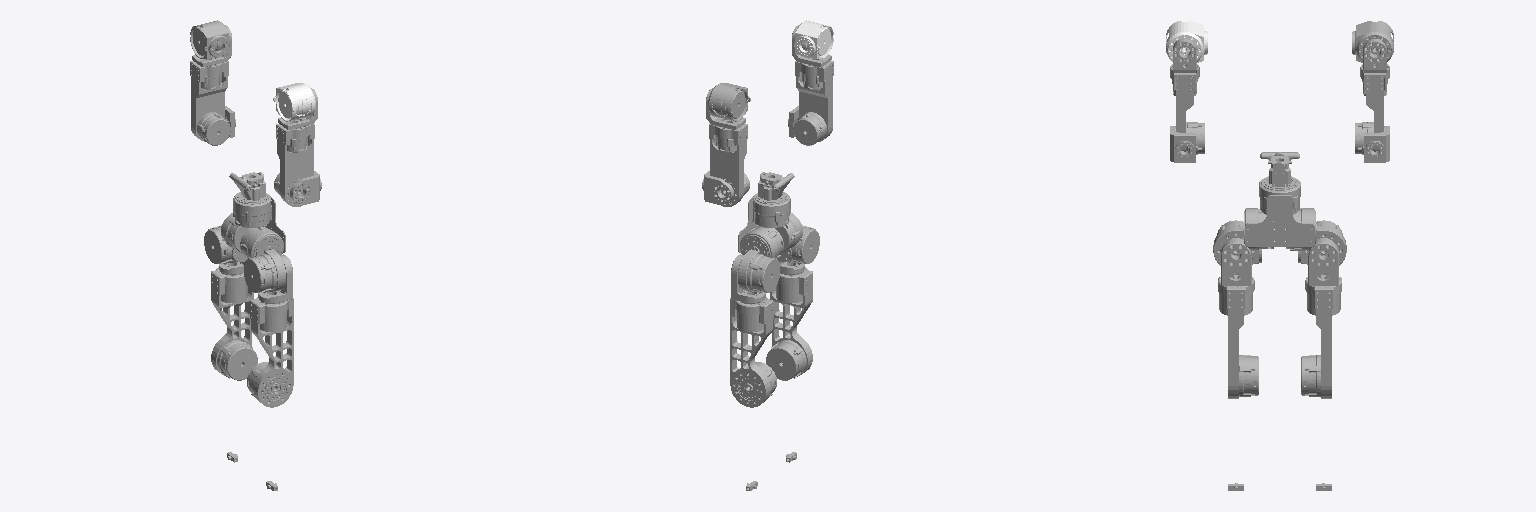
--- Render facts (derived) ---
3 views of the same robot in one strip: view 1: azimuth 30°, elevation 25°; view 2: azimuth 150°, elevation 25°; view 3: azimuth 270°, elevation 25° (orthographic).
Robot: elf2 — 34 links, 33 joints (29 revolute, 2 prismatic, 2 fixed); root link base_link; default pose: all joints at 0.
Visible links, largest first — view 1: r_hip_z_link, l_hip_z_link, waist_z_link, l_shld_z_link, r_shld_z_link, r_hip_y_link, r_shld_y_link, l_shld_y_link, l_hip_y_link, r_elb_y_link, r_hip_x_link, waist_x_link; view 2: l_hip_z_link, r_hip_z_link, waist_z_link, r_shld_z_link, l_shld_z_link, l_hip_y_link, l_shld_y_link, r_shld_y_link, r_hip_y_link, l_elb_y_link, l_hip_x_link, waist_x_link; view 3: waist_z_link, l_hip_z_link, r_hip_z_link, l_shld_z_link, r_shld_z_link, l_hip_x_link, r_hip_x_link, r_shld_y_link, l_shld_y_link, r_hip_y_link, l_hip_y_link, l_elb_y_link (+4 smaller).
Boxes of the visible links, left/top/right/bottom form: r_hip_z_link: left=247, top=297, right=293, bottom=407; l_hip_z_link: left=211, top=267, right=257, bottom=380; waist_z_link: left=221, top=192, right=285, bottom=257; l_shld_z_link: left=190, top=61, right=230, bottom=145; r_shld_z_link: left=274, top=124, right=314, bottom=206; r_hip_y_link: left=244, top=249, right=285, bottom=292; r_shld_y_link: left=273, top=83, right=315, bottom=121; l_shld_y_link: left=190, top=20, right=229, bottom=59; l_hip_y_link: left=204, top=225, right=247, bottom=263; r_elb_y_link: left=290, top=171, right=321, bottom=204; r_hip_x_link: left=258, top=254, right=292, bottom=303; waist_x_link: left=229, top=172, right=265, bottom=200; l_hip_z_link: left=730, top=297, right=776, bottom=407; r_hip_z_link: left=766, top=267, right=812, bottom=380; waist_z_link: left=738, top=192, right=802, bottom=258; r_shld_z_link: left=793, top=61, right=833, bottom=145; l_shld_z_link: left=709, top=124, right=749, bottom=206; l_hip_y_link: left=738, top=249, right=779, bottom=292; l_shld_y_link: left=708, top=83, right=750, bottom=121; r_shld_y_link: left=794, top=20, right=833, bottom=59; r_hip_y_link: left=777, top=225, right=819, bottom=263; l_elb_y_link: left=702, top=171, right=733, bottom=204; l_hip_x_link: left=731, top=254, right=765, bottom=304; waist_x_link: left=758, top=172, right=794, bottom=200; waist_z_link: left=1243, top=176, right=1316, bottom=250; l_hip_z_link: left=1301, top=277, right=1341, bottom=398; r_hip_z_link: left=1218, top=277, right=1258, bottom=398; l_shld_z_link: left=1355, top=64, right=1389, bottom=154; r_shld_z_link: left=1170, top=64, right=1204, bottom=154; l_hip_x_link: left=1308, top=238, right=1338, bottom=285; r_hip_x_link: left=1221, top=238, right=1251, bottom=285; r_shld_y_link: left=1166, top=21, right=1207, bottom=64; l_shld_y_link: left=1352, top=21, right=1393, bottom=64; r_hip_y_link: left=1213, top=220, right=1261, bottom=265; l_hip_y_link: left=1298, top=220, right=1346, bottom=265; l_elb_y_link: left=1364, top=126, right=1389, bottom=162.
Size in the robot's own frame: 0.1249 by 0.5201 by 1.17 metres.
Meshes: 28 distinct files referenced, 19 mesh visuals loaded (19 binary STL); not drawn: 13 (reference not matched to a file when rendering).

URDF robot description (elf2):
<?xml version="1.0" encoding="utf-8"?>
<robot
  name="elf2">
  <link
    name="base_link">
    <inertial>
      <origin
        xyz="-0.002719 0.001928 0.003917"
        rpy="0 0 0" />
      <mass
        value="8.948443" />
      <inertia
        ixx="0.18746"
        ixy="-0.000182"
        ixz="-0.001384"
        iyy="0.142272"
        iyz="0.000105"
        izz="0.069523" />
    </inertial>
    <visual>
      <origin
        xyz="0 0 0"
        rpy="0 0 0" />
      <geometry>
        <mesh
          filename="../meshes/base_link.STL" />
      </geometry>
      <material
        name="">
        <color
          rgba="0.75294 0.75294 0.75294 1" />
      </material>
    </visual>
    <collision>
      <origin
        xyz="0 0 0"
        rpy="0 0 0" />
      <geometry>
        <mesh
          filename="../meshes/base_link.STL" />
      </geometry>
    </collision>
  </link>
  <link
    name="waist_y_link">
    <inertial>
      <origin
        xyz="0.0 0.0 0.0"
        rpy="0 0 0" />
      <mass
        value="0.05316739" />
      <inertia
        ixx="9.7e-06"
        ixy="-0.0"
        ixz="-0.0"
        iyy="9.7e-06"
        iyz="-0.0"
        izz="1.819e-05" />
    </inertial>
    <visual>
      <origin
        xyz="0 0 0"
        rpy="0 0 0" />
      <geometry>
        <mesh
          filename="../meshes/waist_y_link.STL" />
      </geometry>
      <material
        name="">
        <color
          rgba="0.752941176470588 0.752941176470588 0.752941176470588 1" />
      </material>
    </visual>
    <!-- <collision>
      <origin
        xyz="0 0 0"
        rpy="0 0 0" />
      <geometry>
        <mesh
          filename="../meshes/waist_y_link.STL" />
      </geometry>
    </collision> -->
  </link>
  <joint
    name="waist_y_joint"
    type="revolute">
    <origin
      xyz="0 0 -0.2087"
      rpy="0 0 0" />
    <parent
      link="base_link" />
    <child
      link="waist_y_link" />
    <axis
      xyz="0 1 0" />
    <limit
      lower="-0.523"
      upper="0.523"
      effort="50"
      velocity="20" />
  </joint>
  <link
    name="waist_x_link">
    <inertial>
      <origin
        xyz="-0.00448944 0.0 -0.02389195"
        rpy="0 0 0" />
      <mass
        value="0.21792014" />
      <inertia
        ixx="9.089e-05"
        ixy="-0.0"
        ixz="3.456e-05"
        iyy="0.0001491"
        iyz="-0.0"
        izz="0.00013001" />
    </inertial>
    <visual>
      <origin
        xyz="0 0 0"
        rpy="0 0 0" />
      <geometry>
        <mesh
          filename="../meshes/waist_x_link.STL" />
      </geometry>
      <material
        name="">
        <color
          rgba="0.752941176470588 0.752941176470588 0.752941176470588 1" />
      </material>
    </visual>
    <!-- <collision>
      <origin
        xyz="0 0 0"
        rpy="0 0 0" />
      <geometry>
        <mesh
          filename="../meshes/waist_x_link.STL" />
      </geometry>
    </collision> -->
  </link>
  <joint
    name="waist_x_joint"
    type="revolute">
    <origin
      xyz="0 0 0"
      rpy="0 0 0" />
    <parent
      link="waist_y_link" />
    <child
      link="waist_x_link" />
    <axis
      xyz="1 0 0" />
    <limit
      lower="-0.261"
      upper="0.261"
      effort="50"
      velocity="20" />
  </joint>
  <link
    name="waist_z_link">
    <inertial>
      <origin
        xyz="0.00031142 0.00082403 -0.08226891"
        rpy="0 0 0" />
      <mass
        value="3.12645393" />
      <inertia
        ixx="0.0215717"
        ixy="1.17e-06"
        ixz="-1.184e-05"
        iyy="0.00322293"
        iyz="-7.322e-05"
        izz="0.0229471" />
    </inertial>
    <visual>
      <origin
        xyz="0 0 0"
        rpy="0 0 0" />
      <geometry>
        <mesh
          filename="../meshes/waist_z_link.STL" />
      </geometry>
      <material
        name="">
        <color
          rgba="0.752941176470588 0.752941176470588 0.752941176470588 1" />
      </material>
    </visual>
    <collision>
      <origin
        xyz="0 0 0"
        rpy="0 0 0" />
      <geometry>
        <mesh
          filename="../meshes/waist_z_link.STL" />
      </geometry>
    </collision>
  </link>
  <joint
    name="waist_z_joint"
    type="revolute">
    <origin
      xyz="0 0 0"
      rpy="0 0 0" />
    <parent
      link="waist_x_link" />
    <child
      link="waist_z_link" />
    <axis
      xyz="0 0 1" />
    <limit
      lower="-1.57"
      upper="1.57"
      effort="40"
      velocity="20" />
  </joint>
  <link
    name="l_hip_z_link">
    <inertial>
      <origin
        xyz="-0.0951743 -0.00029544 0.01157699"
        rpy="0 0 0" />
      <mass
        value="1.26002534" />
      <inertia
        ixx="0.00250858"
        ixy="-1.87e-05"
        ixz="-0.00093719"
        iyy="0.00299504"
        iyz="6.14e-06"
        izz="0.00188897" />
    </inertial>
    <visual>
      <origin
        xyz="0 0 0"
        rpy="0 0 0" />
      <geometry>
        <mesh
          filename="../meshes/l_hip_z_link.STL" />
      </geometry>
      <material
        name="">
        <color
          rgba="0.752941176470588 0.752941176470588 0.752941176470588 1" />
      </material>
    </visual>
    <collision>
      <origin
        xyz="0 0 0"
        rpy="0 0 0" />
      <geometry>
        <mesh
          filename="../meshes/l_hip_z_link.STL" />
      </geometry>
    </collision>
  </link>
  <joint
    name="l_hip_z_joint"
    type="revolute">
    <origin
      xyz="0 0.1 -0.2175"
      rpy="0 0 0" />
    <parent
      link="waist_z_link" />
    <child
      link="l_hip_z_link" />
    <axis
      xyz="0 0 1" />
    <limit
      lower="-0.785"
      upper="0.785"
      effort="20"
      velocity="20" />
  </joint>
  <link
    name="l_hip_x_link">
    <inertial>
      <origin
        xyz="-0.00349545 -0.05016077 0.00015601"
        rpy="0 0 0" />
      <mass
        value="1.75826055" />
      <inertia
        ixx="0.00145734"
        ixy="0.000276"
        ixz="2.571e-05"
        iyy="0.00183603"
        iyz="-4e-08"
        izz="0.00181117" />
    </inertial>
    <visual>
      <origin
        xyz="0 0 0"
        rpy="0 0 0" />
      <geometry>
        <mesh
          filename="../meshes/l_hip_x_link.STL" />
      </geometry>
      <material
        name="">
        <color
          rgba="0.752941176470588 0.752941176470588 0.752941176470588 1" />
      </material>
    </visual>
    <!-- <collision>
      <origin
        xyz="0 0 0"
        rpy="0 0 0" />
      <geometry>
        <mesh
          filename="../meshes/l_hip_x_link.STL" />
      </geometry>
    </collision> -->
  </link>
  <joint
    name="l_hip_x_joint"
    type="revolute">
    <origin
      xyz="0 0 0"
      rpy="0 0 0" />
    <parent
      link="l_hip_z_link" />
    <child
      link="l_hip_x_link" />
    <axis
      xyz="1 0 0" />
    <limit
      lower="-0.523"
      upper="0.785"
      effort="40"
      velocity="20" />
  </joint>
  <link
    name="l_hip_y_link">
    <inertial>
      <origin
        xyz="0.00237237 0.02408075 -0.04874487"
        rpy="0 0 0" />
      <mass
        value="2.66296335" />
      <inertia
        ixx="0.02678784"
        ixy="0.00016594"
        ixz="0.00075939"
        iyy="0.02619934"
        iyz="-0.00371457"
        izz="0.0045187" />
    </inertial>
    <visual>
      <origin
        xyz="0 0 0"
        rpy="0 0 0" />
      <geometry>
        <mesh
          filename="../meshes/l_hip_y_link.STL" />
      </geometry>
      <material
        name="">
        <color
          rgba="0.752941176470588 0.752941176470588 0.752941176470588 1" />
      </material>
    </visual>
    <!-- <collision>
      <origin
        xyz="0 0 0"
        rpy="0 0 0" />
      <geometry>
        <mesh
          filename="../meshes/l_hip_y_link.STL" />
      </geometry>
    </collision> -->
  </link>
  <joint
    name="l_hip_y_joint"
    type="revolute">
    <origin
      xyz="0 0 0"
      rpy="0 0 0" />
    <parent
      link="l_hip_x_link" />
    <child
      link="l_hip_y_link" />
    <axis
      xyz="0 1 0" />
    <limit
      lower="-2"
      upper="1"
      effort="100"
      velocity="20" />
  </joint>
  <link
    name="l_knee_y_link">
    <inertial>
      <origin
        xyz="0.00711393 -0.00031499 -0.10977806"
        rpy="0 0 0" />
      <mass
        value="1.63072153" />
      <inertia
        ixx="0.01042782"
        ixy="1.62e-06"
        ixz="-0.00054999"
        iyy="0.01018545"
        iyz="-0.00015956"
        izz="0.00140744" />
    </inertial>
    <visual>
      <origin
        xyz="0 0 0"
        rpy="0 0 0" />
      <geometry>
        <mesh
          filename="../meshes/l_knee_y_link.STL" />
      </geometry>
      <material
        name="">
        <color
          rgba="0.752941176470588 0.752941176470588 0.752941176470588 1" />
      </material>
    </visual>
    <collision>
      <origin
        xyz="0 0 0"
        rpy="0 0 0" />
      <geometry>
        <mesh
          filename="../meshes/l_knee_y_link.STL" />
      </geometry>
    </collision>
  </link>
  <joint
    name="l_knee_y_joint"
    type="revolute">
    <origin
      xyz="0 0 -0.3"
      rpy="0 0 0" />
    <parent
      link="l_hip_y_link" />
    <child
      link="l_knee_y_link" />
    <axis
      xyz="0 1 0" />
    <limit
      lower="0"
      upper="2.355"
      effort="120"
      velocity="20" />
  </joint>
  <link
    name="l_ankle_y_link">
    <inertial>
      <origin
        xyz="0.0 0.0 -0.00046563"
        rpy="0 0 0" />
      <mass
        value="0.01206963" />
      <inertia
        ixx="2.89e-06"
        ixy="-0.0"
        ixz="-0.0"
        iyy="3.4e-07"
        iyz="-0.0"
        izz="3.01e-06" />
    </inertial>
    <visual>
      <origin
        xyz="0 0 0"
        rpy="0 0 0" />
      <geometry>
        <mesh
          filename="../meshes/l_ankle_y_link.STL" />
      </geometry>
      <material
        name="">
        <color
          rgba="0.752941176470588 0.752941176470588 0.752941176470588 1" />
      </material>
    </visual>
    <!-- <collision>
      <origin
        xyz="0 0 0"
        rpy="0 0 0" />
      <geometry>
        <mesh
          filename="../meshes/l_ankle_y_link.STL" />
      </geometry>
    </collision> -->
  </link>
  <joint
    name="l_ankle_y_joint"
    type="revolute">
    <origin
      xyz="0 0 -0.3"
      rpy="0 0 0" />
    <parent
      link="l_knee_y_link" />
    <child
      link="l_ankle_y_link" />
    <axis
      xyz="0 1 0" />
    <limit
      lower="-2"
      upper="2"
      effort="50"
      velocity="20" />
  </joint>
  <link
    name="l_ankle_x_link">
    <inertial>
      <origin
        xyz="-0.00088171 0.0 -0.02245193"
        rpy="0 0 0" />
      <mass
        value="0.27064154" />
      <inertia
        ixx="0.00014549"
        ixy="-0.0"
        ixz="5.53e-06"
        iyy="0.00071745"
        iyz="-0.0"
        izz="0.00081666" />
    </inertial>
    <visual>
      <origin
        xyz="0 0 -0.03"
        rpy="0 0 0" />
      <geometry>
        <mesh
          filename="../meshes/l_hum_foot.STL" />
      </geometry>
      <material
        name="">
        <color
          rgba="0.752941176470588 0.752941176470588 0.752941176470588 1" />
      </material>
    </visual>
    <collision>
      <origin
        xyz="0 0 -0.03"
        rpy="0 0 0" />
      <geometry>
        <mesh
          filename="../meshes/l_hum_foot.STL" />
      </geometry>
    </collision>
  </link>
  <joint
    name="l_ankle_x_joint"
    type="revolute">
    <origin
      xyz="0 0 0"
      rpy="0 0 0" />
    <parent
      link="l_ankle_y_link" />
    <child
      link="l_ankle_x_link" />
    <axis
      xyz="1 0 0" />
    <limit
      lower="-0.349"
      upper="0.349"
      effort="20"
      velocity="20" />
  </joint>
  <link
    name="r_hip_z_link">
    <inertial>
      <origin
        xyz="-0.0951743 0.00029543 0.01157699"
        rpy="0 0 0" />
      <mass
        value="1.26002506" />
      <inertia
        ixx="0.00250858"
        ixy="1.87e-05"
        ixz="-0.00093719"
        iyy="0.00299504"
        iyz="-6.14e-06"
        izz="0.00188897" />
    </inertial>
    <visual>
      <origin
        xyz="0 0 0"
        rpy="0 0 0" />
      <geometry>
        <mesh
          filename="../meshes/r_hip_z_link.STL" />
      </geometry>
      <material
        name="">
        <color
          rgba="0.752941176470588 0.752941176470588 0.752941176470588 1" />
      </material>
    </visual>
    <collision>
      <origin
        xyz="0 0 0"
        rpy="0 0 0" />
      <geometry>
        <mesh
          filename="../meshes/r_hip_z_link.STL" />
      </geometry>
    </collision>
  </link>
  <joint
    name="r_hip_z_joint"
    type="revolute">
    <origin
      xyz="0 -0.1 -0.2175"
      rpy="0 0 0" />
    <parent
      link="waist_z_link" />
    <child
      link="r_hip_z_link" />
    <axis
      xyz="0 0 1" />
    <limit
      lower="-0.785"
      upper="0.785"
      effort="20"
      velocity="20" />
  </joint>
  <link
    name="r_hip_x_link">
    <inertial>
      <origin
        xyz="-0.00349545 0.05016077 0.000156"
        rpy="0 0 0" />
      <mass
        value="1.75825984" />
      <inertia
        ixx="0.00145734"
        ixy="-0.000276"
        ixz="2.571e-05"
        iyy="0.00183603"
        iyz="4e-08"
        izz="0.00181117" />
    </inertial>
    <visual>
      <origin
        xyz="0 0 0"
        rpy="0 0 0" />
      <geometry>
        <mesh
          filename="../meshes/r_hip_x_link.STL" />
      </geometry>
      <material
        name="">
        <color
          rgba="0.752941176470588 0.752941176470588 0.752941176470588 1" />
      </material>
    </visual>
    <!-- <collision>
      <origin
        xyz="0 0 0"
        rpy="0 0 0" />
      <geometry>
        <mesh
          filename="../meshes/r_hip_x_link.STL" />
      </geometry>
    </collision> -->
  </link>
  <joint
    name="r_hip_x_joint"
    type="revolute">
    <origin
      xyz="0 0 0"
      rpy="0 0 0" />
    <parent
      link="r_hip_z_link" />
    <child
      link="r_hip_x_link" />
    <axis
      xyz="1 0 0" />
    <limit
      lower="-0.785"
      upper="0.523"
      effort="40"
      velocity="20" />
  </joint>
  <link
    name="r_hip_y_link">
    <inertial>
      <origin
        xyz="0.00237237 -0.02408076 -0.04874488"
        rpy="0 0 0" />
      <mass
        value="2.66296401" />
      <inertia
        ixx="0.02678786"
        ixy="-0.00016594"
        ixz="0.00075939"
        iyy="0.02619935"
        iyz="0.00371458"
        izz="0.0045187" />
    </inertial>
    <visual>
      <origin
        xyz="0 0 0"
        rpy="0 0 0" />
      <geometry>
        <mesh
          filename="../meshes/r_hip_y_link.STL" />
      </geometry>
      <material
        name="">
        <color
          rgba="0.752941176470588 0.752941176470588 0.752941176470588 1" />
      </material>
    </visual>
    <!-- <collision>
      <origin
        xyz="0 0 0"
        rpy="0 0 0" />
      <geometry>
        <mesh
          filename="../meshes/r_hip_y_link.STL" />
      </geometry>
    </collision> -->
  </link>
  <joint
    name="r_hip_y_joint"
    type="revolute">
    <origin
      xyz="0 0 0"
      rpy="0 0 0" />
    <parent
      link="r_hip_x_link" />
    <child
      link="r_hip_y_link" />
    <axis
      xyz="0 1 0" />
    <limit
      lower="-2"
      upper="1"
      effort="100"
      velocity="20" />
  </joint>
  <link
    name="r_knee_y_link">
    <inertial>
      <origin
        xyz="0.00711396 0.00031502 -0.109778"
        rpy="0 0 0" />
      <mass
        value="1.63072158" />
      <inertia
        ixx="0.01042781"
        ixy="-1.62e-06"
        ixz="-0.00054998"
        iyy="0.01018544"
        iyz="0.00015955"
        izz="0.00140744" />
    </inertial>
    <visual>
      <origin
        xyz="0 0 0"
        rpy="0 0 0" />
      <geometry>
        <mesh
          filename="../meshes/r_knee_y_link.STL" />
      </geometry>
      <material
        name="">
        <color
          rgba="0.752941176470588 0.752941176470588 0.752941176470588 1" />
      </material>
    </visual>
    <collision>
      <origin
        xyz="0 0 0"
        rpy="0 0 0" />
      <geometry>
        <mesh
          filename="../meshes/r_knee_y_link.STL" />
      </geometry>
    </collision>
  </link>
  <joint
    name="r_knee_y_joint"
    type="revolute">
    <origin
      xyz="0 0 -0.3"
      rpy="0 0 0" />
    <parent
      link="r_hip_y_link" />
    <child
      link="r_knee_y_link" />
    <axis
      xyz="0 1 0" />
    <limit
      lower="0"
      upper="2.355"
      effort="120"
      velocity="20" />
  </joint>
  <link
    name="r_ankle_y_link">
    <inertial>
      <origin
        xyz="0.0 0.0 -0.00046563"
        rpy="0 0 0" />
      <mass
        value="0.01206963" />
      <inertia
        ixx="2.89e-06"
        ixy="-0.0"
        ixz="-0.0"
        iyy="3.4e-07"
        iyz="-0.0"
        izz="3.01e-06" />
    </inertial>
    <visual>
      <origin
        xyz="0 0 0"
        rpy="0 0 0" />
      <geometry>
        <mesh
          filename="../meshes/r_ankle_y_link.STL" />
      </geometry>
      <material
        name="">
        <color
          rgba="0.752941176470588 0.752941176470588 0.752941176470588 1" />
      </material>
    </visual>
    <!-- <collision>
      <origin
        xyz="0 0 0"
        rpy="0 0 0" />
      <geometry>
        <mesh
          filename="../meshes/r_ankle_y_link.STL" />
      </geometry>
    </collision> -->
  </link>
  <joint
    name="r_ankle_y_joint"
    type="revolute">
    <origin
      xyz="0 0 -0.3"
      rpy="0 0 0" />
    <parent
      link="r_knee_y_link" />
    <child
      link="r_ankle_y_link" />
    <axis
      xyz="0 1 0" />
    <limit
      lower="-2"
      upper="2"
      effort="50"
      velocity="20" />
  </joint>
  <link
    name="r_ankle_x_link">
    <inertial>
      <origin
        xyz="-0.00088171 0.0 -0.02245193"
        rpy="0 0 0" />
      <mass
        value="0.27064154" />
      <inertia
        ixx="0.00014549"
        ixy="-0.0"
        ixz="5.53e-06"
        iyy="0.00071745"
        iyz="-0.0"
        izz="0.00081666" />
    </inertial>
    <visual>
      <origin
        xyz="0 0 -0.03"
        rpy="0 0 0" />
      <geometry>
        <mesh
          filename="../meshes/r_hum_foot.STL" />
      </geometry>
      <material
        name="">
        <color
          rgba="0.752941176470588 0.752941176470588 0.752941176470588 1" />
      </material>
    </visual>
    <collision>
      <origin
        xyz="0 0 -0.03"
        rpy="0 0 0" />
      <geometry>
        <mesh
          filename="../meshes/r_hum_foot.STL" />
      </geometry>
    </collision>
  </link>
  <joint
    name="r_ankle_x_joint"
    type="revolute">
    <origin
      xyz="0 0 0"
      rpy="0 0 0" />
    <parent
      link="r_ankle_y_link" />
    <child
      link="r_ankle_x_link" />
    <axis
      xyz="1 0 0" />
    <limit
      lower="-0.349"
      upper="0.349"
      effort="20"
      velocity="20" />
  </joint>
  <link
    name="l_shld_y_link">
    <inertial>
      <origin
        xyz="0.00068297 -0.00449372 2.22e-06"
        rpy="0 0 0" />
      <mass
        value="0.53804971" />
      <inertia
        ixx="0.00030648"
        ixy="4.03e-06"
        ixz="2e-08"
        iyy="0.00029153"
        iyz="1e-07"
        izz="0.00032312" />
    </inertial>
    <visual>
      <origin
        xyz="0 0 0"
        rpy="0 0 0" />
      <geometry>
        <mesh
          filename="../meshes/l_shld_y_link.STL" />
      </geometry>
      <material
        name="">
        <color
          rgba="0.752941176470588 0.752941176470588 0.752941176470588 1" />
      </material>
    </visual>
    <!-- <collision>
      <origin
        xyz="0 0 0"
        rpy="0 0 0" />
      <geometry>
        <mesh
          filename="../meshes/l_shld_y_link.STL" />
      </geometry>
    </collision> -->
  </link>
  <joint
    name="l_shld_y_joint"
    type="revolute">
    <origin
      xyz="0 0.21705 0.09205"
      rpy="0 0 0" />
    <parent
      link="base_link" />
    <child
      link="l_shld_y_link" />
    <axis
      xyz="0 1 0" />
    <limit
      lower="-2"
      upper="2"
      effort="27"
      velocity="20" />
  </joint>
  <link
    name="l_shld_x_link">
    <inertial>
      <origin
        xyz="-2.047e-05 5.316e-05 -0.06162654"
        rpy="0 0 0" />
      <mass
        value="0.48847489" />
      <inertia
        ixx="0.00027194"
        ixy="4e-08"
        ixz="-5.4e-07"
        iyy="0.00033709"
        iyz="-5.4e-07"
        izz="0.0002884" />
    </inertial>
    <visual>
      <origin
        xyz="0 0 0"
        rpy="0 0 0" />
      <geometry>
        <mesh
          filename="../meshes/l_shld_x_link.STL" />
      </geometry>
      <material
        name="">
        <color
          rgba="0.752941176470588 0.752941176470588 0.752941176470588 1" />
      </material>
    </visual>
    <!-- <collision>
      <origin
        xyz="0 0 0"
        rpy="0 0 0" />
      <geometry>
        <mesh
          filename="../meshes/l_shld_x_link.STL" />
      </geometry>
    </collision> -->
  </link>
  <joint
    name="l_shld_x_joint"
    type="revolute">
    <origin
      xyz="0 0 0"
      rpy="0 0 0" />
    <parent
      link="l_shld_y_link" />
    <child
      link="l_shld_x_link" />
    <axis
      xyz="1 0 0" />
    <limit
      lower="-0.5"
      upper="1.57"
      effort="27"
      velocity="20" />
  </joint>
  <link
    name="l_shld_z_link">
    <inertial>
      <origin
        xyz="4.164e-05 0.00022669 -0.2212782"
        rpy="0 0 0" />
      <mass
        value="0.59309528" />
      <inertia
        ixx="0.00136573"
        ixy="5.3e-07"
        ixz="-1e-08"
        iyy="0.00133989"
        iyz="1.22e-06"
        izz="0.00030342" />
    </inertial>
    <visual>
      <origin
        xyz="0 0 0"
        rpy="0 0 0" />
      <geometry>
        <mesh
          filename="../meshes/l_shld_z_link.STL" />
      </geometry>
      <material
        name="">
        <color
          rgba="0.752941176470588 0.752941176470588 0.752941176470588 1" />
      </material>
    </visual>
    <collision>
      <origin
        xyz="0 0 0"
        rpy="0 0 0" />
      <geometry>
        <mesh
          filename="../meshes/l_shld_z_link.STL" />
      </geometry>
    </collision>
  </link>
  <joint
    name="l_shld_z_joint"
    type="revolute">
    <origin
      xyz="0 0 0"
      rpy="0 0 0" />
    <parent
      link="l_shld_x_link" />
    <child
      link="l_shld_z_link" />
    <axis
      xyz="0 0 1" />
    <limit
      lower="-0.785"
      upper="0.785"
      effort="7"
      velocity="20" />
  </joint>
  <link
    name="l_elb_y_link">
    <inertial>
      <origin
        xyz="5.192e-05 1.999e-05 -0.08561189"
        rpy="0 0 0" />
      <mass
        value="0.50005725" />
      <inertia
        ixx="0.00043713"
        ixy="-4e-08"
        ixz="-4.9e-07"
        iyy="0.00036043"
        iyz="6.3e-07"
        izz="0.00030266" />
    </inertial>
    <visual>
      <origin
        xyz="0 0 0"
        rpy="0 0 0" />
      <geometry>
        <mesh
          filename="../meshes/l_elb_y_link.STL" />
      </geometry>
      <material
        name="">
        <color
          rgba="0.752941176470588 0.752941176470588 0.752941176470588 1" />
      </material>
    </visual>
    <collision>
      <origin
        xyz="0 0 0"
        rpy="0 0 0" />
      <geometry>
        <mesh
          filename="../meshes/l_elb_y_link.STL" />
      </geometry>
    </collision>
  </link>
  <joint
    name="l_elb_y_joint"
    type="revolute">
    <origin
      xyz="0 0 -0.24"
      rpy="0 0 0" />
    <parent
      link="l_shld_z_link" />
    <child
      link="l_elb_y_link" />
    <axis
      xyz="0 1 0" />
    <limit
      lower="-2.355"
      upper="0.5"
      effort="27"
      velocity="20" />
  </joint>
  <link
    name="l_elb_z_link">
    <inertial>
      <origin
        xyz="0 0 0"
        rpy="0 0 0" />
      <mass
        value="0.13457416" />
      <inertia
        ixx="0.00040001"
        ixy="-0.0"
        ixz="-2e-08"
        iyy="0.00039996"
        iyz="1.5e-07"
        izz="5.662e-05" />
    </inertial>
    <visual>
      <origin
        xyz="0 0 0"
        rpy="3.1415926 0 1.5707963" />
      <geometry>
        <mesh
          filename="../meshes/elb_z_link.STL" />
      </geometry>
      <material
        name="">
        <color
          rgba="0.752941176470588 0.752941176470588 0.752941176470588 1" />
      </material>
    </visual>
    <collision>
      <origin
        xyz="0 0 0"
        rpy="3.1415926 0 1.5707963" />
      <geometry>
        <mesh
          filename="../meshes/elb_z_link.STL" />
      </geometry>
    </collision>
  </link>
  <joint
    name="l_elb_z_joint"
    type="revolute">
    <origin
      xyz="0 0 -0.12"
      rpy="0 0 0" />
    <parent
      link="l_elb_y_link" />
    <child
      link="l_elb_z_link" />
    <axis
      xyz="0 0 1" />
    <limit
      lower="-0.785"
      upper="0.785"
      effort="7"
      velocity="20" />
  </joint>
  <link
    name="l_wrist_y_link">
    <inertial>
      <origin
        xyz="0 0 0"
        rpy="0 0 0" />
      <mass
        value="0.13457416" />
      <inertia
        ixx="0.00040001"
        ixy="-0.0"
        ixz="-2e-08"
        iyy="0.00039996"
        iyz="1.5e-07"
        izz="5.662e-05" />
    </inertial>
    <visual>
      <origin
        xyz="0 0 0"
        rpy="0 -1.5707963 -1.5707963" />
      <geometry>
        <mesh
          filename="../meshes/wrist_y_link.STL" />
      </geometry>
      <material
        name="">
        <color
          rgba="0.752941176470588 0.752941176470588 0.752941176470588 1" />
      </material>
    </visual>
    <collision>
      <origin
        xyz="0 0 0"
        rpy="0 -1.5707963 -1.5707963" />
      <geometry>
        <mesh
          filename="../meshes/wrist_y_link.STL" />
      </geometry>
    </collision>
  </link>
  <joint
    name="l_wrist_y_joint"
    type="revolute">
    <origin
      xyz="0 0 -0.0415"
      rpy="0 0 0" />
    <parent
      link="l_elb_z_link" />
    <child
      link="l_wrist_y_link" />
    <axis
      xyz="0 1 0" />
    <limit
      lower="-0.785"
      upper="0.785"
      effort="7"
      velocity="20" />
  </joint>
  <link
    name="l_wrist_x_link">
    <inertial>
      <origin
        xyz="0 0 0"
        rpy="0 0 0" />
      <mass
        value="0.13457416" />
      <inertia
        ixx="0.00040001"
        ixy="-0.0"
        ixz="-2e-08"
        iyy="0.00039996"
        iyz="1.5e-07"
        izz="5.662e-05" />
    </inertial>
    <visual>
      <origin
        xyz="0 0 0"
        rpy="1.5707963 0 1.5707963" />
      <geometry>
        <mesh
          filename="../meshes/wrist_x_link.STL" />
      </geometry>
      <material
        name="">
        <color
          rgba="0.752941176470588 0.752941176470588 0.752941176470588 1" />
      </material>
    </visual>
    <collision>
      <origin
        xyz="0 0 0"
        rpy="1.5707963 0 1.5707963" />
      <geometry>
        <mesh
          filename="../meshes/wrist_x_link.STL" />
      </geometry>
    </collision>
  </link>
  <joint
    name="l_wrist_x_joint"
    type="revolute">
    <origin
      xyz="0 0 -0.059"
      rpy="0 0 0" />
    <parent
      link="l_wrist_y_link" />
    <child
      link="l_wrist_x_link" />
    <axis
      xyz="1 0 0" />
    <limit
      lower="-0.785"
      upper="0.785"
      effort="7"
      velocity="20" />
  </joint>
  <link
    name="l_hand_link">
    <inertial>
      <origin
        xyz="0 0 0"
        rpy="0 0 0" />
      <mass
        value="0.13457416" />
      <inertia
        ixx="0.00040001"
        ixy="-0.0"
        ixz="-2e-08"
        iyy="0.00039996"
        iyz="1.5e-07"
        izz="5.662e-05" />
    </inertial>
    <visual>
      <origin
        xyz="0 0 0"
        rpy="-1.5707963 0 1.5707963" />
      <geometry>
        <mesh
          filename="../meshes/gripper_l.STL"/>
      </geometry>
      <geometry>
        <mesh
          filename="../meshes/gripper_r.STL"
          rpy="0 0 3.1415926"/>
      </geometry>
      <material
        name="">
        <color
          rgba="0.752941176470588 0.752941176470588 0.752941176470588 1" />
      </material>
    </visual>
    <collision>
      <origin
        xyz="0 0 0"
        rpy="-1.5707963 0 1.5707963" />
      <geometry>
        <mesh
          filename="../meshes/gripper_l.STL"/>
      </geometry>
      <geometry>
        <mesh
          filename="../meshes/gripper_r.STL"
          rpy="0 0 3.1415926"/>
      </geometry>
    </collision>
  </link>
  <joint
    name="l_hand_joint"
    type="prismatic">
    <origin
      xyz="0 0 -0.105"
      rpy="0 0 0" />
    <parent
      link="l_wrist_x_link" />
    <child
      link="l_hand_link" />
    <axis
      xyz="1 0 0" />
    <limit
      lower="-0.785"
      upper="0.785"
      effort="7"
      velocity="20" />
  </joint>
  <link
    name="r_shld_y_link">
    <inertial>
      <origin
        xyz="0.00068297 0.00449372 -2.22e-06"
        rpy="0 0 0" />
      <mass
        value="0.53804971" />
      <inertia
        ixx="0.00030648"
        ixy="-4.03e-06"
        ixz="-2e-08"
        iyy="0.00029153"
        iyz="1e-07"
        izz="0.00032312" />
    </inertial>
    <visual>
      <origin
        xyz="0 0 0"
        rpy="0 0 0" />
      <geometry>
        <mesh
          filename="../meshes/r_shld_y_link.STL" />
      </geometry>
      <material
        name="">
        <color
          rgba="1 1 1 1" />
      </material>
    </visual>
    <!-- <collision>
      <origin
        xyz="0 0 0"
        rpy="0 0 0" />
      <geometry>
        <mesh
          filename="../meshes/r_shld_y_link.STL" />
      </geometry>
    </collision> -->
  </link>
  <joint
    name="r_shld_y_joint"
    type="revolute">
    <origin
      xyz="0 -0.21705 0.09205"
      rpy="0 0 0" />
    <parent
      link="base_link" />
    <child
      link="r_shld_y_link" />
    <axis
      xyz="0 1 0" />
    <limit
      lower="-2"
      upper="2"
      effort="27"
      velocity="20" />
  </joint>
  <link
    name="r_shld_x_link">
    <inertial>
      <origin
        xyz="2.047e-05 -5.316e-05 -0.06162654"
        rpy="0 0 0" />
      <mass
        value="0.48847489" />
      <inertia
        ixx="0.00027194"
        ixy="4e-08"
        ixz="5.4e-07"
        iyy="0.00033709"
        iyz="5.4e-07"
        izz="0.0002884" />
    </inertial>
    <visual>
      <origin
        xyz="0 0 0"
        rpy="0 0 0" />
      <geometry>
        <mesh
          filename="../meshes/r_shld_x_link.STL" />
      </geometry>
      <material
        name="">
        <color
          rgba="0.752941176470588 0.752941176470588 0.752941176470588 1" />
      </material>
    </visual>
    <!-- <collision>
      <origin
        xyz="0 0 0"
        rpy="0 0 0" />
      <geometry>
        <mesh
          filename="../meshes/r_shld_x_link.STL" />
      </geometry>
    </collision> -->
  </link>
  <joint
    name="r_shld_x_joint"
    type="revolute">
    <origin
      xyz="0 0 0"
      rpy="0 0 0" />
    <parent
      link="r_shld_y_link" />
    <child
      link="r_shld_x_link" />
    <axis
      xyz="1 0 0" />
    <limit
      lower="-1.57"
      upper="0.5"
      effort="27"
      velocity="20" />
  </joint>
  <link
    name="r_shld_z_link">
    <inertial>
      <origin
        xyz="-4.164e-05 -0.00022669 -0.2212782"
        rpy="0 0 0" />
      <mass
        value="0.59309528" />
      <inertia
        ixx="0.00136573"
        ixy="5.3e-07"
        ixz="1e-08"
        iyy="0.00133989"
        iyz="-1.22e-06"
        izz="0.00030342" />
    </inertial>
    <visual>
      <origin
        xyz="0 0 0"
        rpy="0 0 0" />
      <geometry>
        <mesh
          filename="../meshes/r_shld_z_link.STL" />
      </geometry>
      <material
        name="">
        <color
          rgba="0.752941176470588 0.752941176470588 0.752941176470588 1" />
      </material>
    </visual>
    <collision>
      <origin
        xyz="0 0 0"
        rpy="0 0 0" />
      <geometry>
        <mesh
          filename="../meshes/r_shld_z_link.STL" />
      </geometry>
    </collision>
  </link>
  <joint
    name="r_shld_z_joint"
    type="revolute">
    <origin
      xyz="0 0 0"
      rpy="0 0 0" />
    <parent
      link="r_shld_x_link" />
    <child
      link="r_shld_z_link" />
    <axis
      xyz="0 0 1" />
    <limit
      lower="-0.785"
      upper="0.785"
      effort="7"
      velocity="20" />
  </joint>
  <link
    name="r_elb_y_link">
    <inertial>
      <origin
        xyz="-5.192e-05 -1.999e-05 -0.08561189"
        rpy="0 0 0" />
      <mass
        value="0.50005725" />
      <inertia
        ixx="0.00043713"
        ixy="-4e-08"
        ixz="4.9e-07"
        iyy="0.00036043"
        iyz="-6.3e-07"
        izz="0.00030266" />
    </inertial>
    <visual>
      <origin
        xyz="0 0 0"
        rpy="0 0 0" />
      <geometry>
        <mesh
          filename="../meshes/r_elb_y_link.STL" />
      </geometry>
      <material
        name="">
        <color
          rgba="0.752941176470588 0.752941176470588 0.752941176470588 1" />
      </material>
    </visual>
    <collision>
      <origin
        xyz="0 0 0"
        rpy="0 0 0" />
      <geometry>
        <mesh
          filename="../meshes/r_elb_y_link.STL" />
      </geometry>
    </collision>
  </link>
  <joint
    name="r_elb_y_joint"
    type="revolute">
    <origin
      xyz="0 0 -0.24"
      rpy="0 0 0" />
    <parent
      link="r_shld_z_link" />
    <child
      link="r_elb_y_link" />
    <axis
      xyz="0 1 0" />
    <limit
      lower="-2.355"
      upper="0.5"
      effort="27"
      velocity="20" />
  </joint>
  <link
    name="r_elb_z_link">
    <inertial>
      <origin
        xyz="0 0 0"
        rpy="0 0 0" />
      <mass
        value="0.13457416" />
      <inertia
        ixx="0.00040001"
        ixy="-0.0"
        ixz="-2e-08"
        iyy="0.00039996"
        iyz="1.5e-07"
        izz="5.662e-05" />
    </inertial>
    <visual>
      <origin
        xyz="0 0 0"
        rpy="3.1415926 0 1.5707963" />
      <geometry>
        <mesh
          filename="../meshes/elb_z_link.STL" />
      </geometry>
      <material
        name="">
        <color
          rgba="0.752941176470588 0.752941176470588 0.752941176470588 1" />
      </material>
    </visual>
    <collision>
      <origin
        xyz="0 0 0"
        rpy="3.1415926 0 1.5707963" />
      <geometry>
        <mesh
          filename="../meshes/elb_z_link.STL" />
      </geometry>
    </collision>
  </link>
  <joint
    name="r_elb_z_joint"
    type="revolute">
    <origin
      xyz="0 0 -0.12"
      rpy="0 0 0" />
    <parent
      link="r_elb_y_link" />
    <child
      link="r_elb_z_link" />
    <axis
      xyz="0 0 1" />
    <limit
      lower="-0.785"
      upper="0.785"
      effort="7"
      velocity="20" />
  </joint>
  <link
    name="r_wrist_y_link">
    <inertial>
      <origin
        xyz="0 0 0"
        rpy="0 0 0" />
      <mass
        value="0.13457416" />
      <inertia
        ixx="0.00040001"
        ixy="-0.0"
        ixz="-2e-08"
        iyy="0.00039996"
        iyz="1.5e-07"
        izz="5.662e-05" />
    </inertial>
    <visual>
      <origin
        xyz="0 0 0"
        rpy="0 -1.5707963 -1.5707963" />
      <geometry>
        <mesh
          filename="../meshes/wrist_y_link.STL" />
      </geometry>
      <material
        name="">
        <color
          rgba="0.752941176470588 0.752941176470588 0.752941176470588 1" />
      </material>
    </visual>
    <collision>
      <origin
        xyz="0 0 0"
        rpy="0 -1.5707963 -1.5707963" />
      <geometry>
        <mesh
          filename="../meshes/wrist_y_link.STL" />
      </geometry>
    </collision>
  </link>
  <joint
    name="r_wrist_y_joint"
    type="revolute">
    <origin
      xyz="0 0 -0.0415"
      rpy="0 0 0" />
    <parent
      link="r_elb_z_link" />
    <child
      link="r_wrist_y_link" />
    <axis
      xyz="0 1 0" />
    <limit
      lower="-0.785"
      upper="0.785"
      effort="7"
      velocity="20" />
  </joint>
  <link
    name="r_wrist_x_link">
    <inertial>
      <origin
        xyz="0 0 0"
        rpy="0 0 0" />
      <mass
        value="0.13457416" />
      <inertia
        ixx="0.00040001"
        ixy="-0.0"
        ixz="-2e-08"
        iyy="0.00039996"
        iyz="1.5e-07"
        izz="5.662e-05" />
    </inertial>
    <visual>
      <origin
        xyz="0 0 0"
        rpy="1.5707963 0 1.5707963" />
      <geometry>
        <mesh
          filename="../meshes/wrist_x_link.STL" />
      </geometry>
      <material
        name="">
        <color
          rgba="0.752941176470588 0.752941176470588 0.752941176470588 1" />
      </material>
    </visual>
    <collision>
      <origin
        xyz="0 0 0"
        rpy="1.5707963 0 1.5707963" />
      <geometry>
        <mesh
          filename="../meshes/wrist_x_link.STL" />
      </geometry>
    </collision>
  </link>
  <joint
    name="r_wrist_x_joint"
    type="revolute">
    <origin
      xyz="0 0 -0.059"
      rpy="0 0 0" />
    <parent
      link="r_wrist_y_link" />
    <child
      link="r_wrist_x_link" />
    <axis
      xyz="1 0 0" />
    <limit
      lower="-0.785"
      upper="0.785"
      effort="7"
      velocity="20" />
  </joint>
  <link
    name="r_hand_link">
    <inertial>
      <origin
        xyz="0 0 0"
        rpy="0 0 0" />
      <mass
        value="0.13457416" />
      <inertia
        ixx="0.00040001"
        ixy="-0.0"
        ixz="-2e-08"
        iyy="0.00039996"
        iyz="1.5e-07"
        izz="5.662e-05" />
    </inertial>
    <visual>
      <origin
        xyz="0 0 0"
        rpy="-1.5707963 0 1.5707963" />
      <geometry>
        <mesh
          filename="../meshes/gripper_l.STL"/>
      </geometry>
      <geometry>
        <mesh
          filename="../meshes/gripper_r.STL"
          rpy="0 0 3.1415926"/>
      </geometry>
      <material
        name="">
        <color
          rgba="0.752941176470588 0.752941176470588 0.752941176470588 1" />
      </material>
    </visual>
    <collision>
      <origin
        xyz="0 0 0"
        rpy="-1.5707963 0 1.5707963" />
      <geometry>
        <mesh
          filename="../meshes/gripper_l.STL"/>
      </geometry>
      <geometry>
        <mesh
          filename="../meshes/gripper_r.STL"
          rpy="0 0 3.1415926"/>
      </geometry>
    </collision>
  </link>
  <joint
    name="r_hand_joint"
    type="prismatic">
    <origin
      xyz="0 0 -0.105"
      rpy="0 0 0" />
    <parent
      link="r_wrist_x_link" />
    <child
      link="r_hand_link" />
    <axis
      xyz="1 0 0" />
    <limit
      lower="-0.785"
      upper="0.785"
      effort="7"
      velocity="20" />
  </joint>
  <link
    name="d435i">
  </link>
  <joint
    name="d435i_joint"
    type="fixed">
    <origin
      xyz="0.03255 0 0.2818"
      rpy="-1.5708 0 -1.5708" />
    <parent
      link="base_link" />
    <child
      link="d435i" />
    <axis
      xyz="0 0 0" />
  </joint>
  <link
    name="mid360">
  </link>
  <joint
    name="mid360_joint"
    type="fixed">
    <origin
      xyz="0 0 0.23988"
      rpy="3.1416 0 1.5708" />
    <parent
      link="base_link" />
    <child
      link="mid360" />
    <axis
      xyz="0 0 0" />
  </joint>
</robot>
